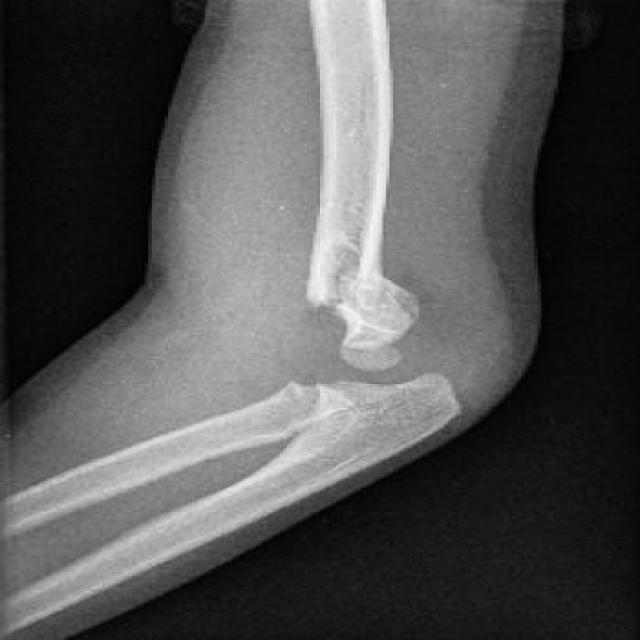Fracture: (287, 292, 394, 407)
